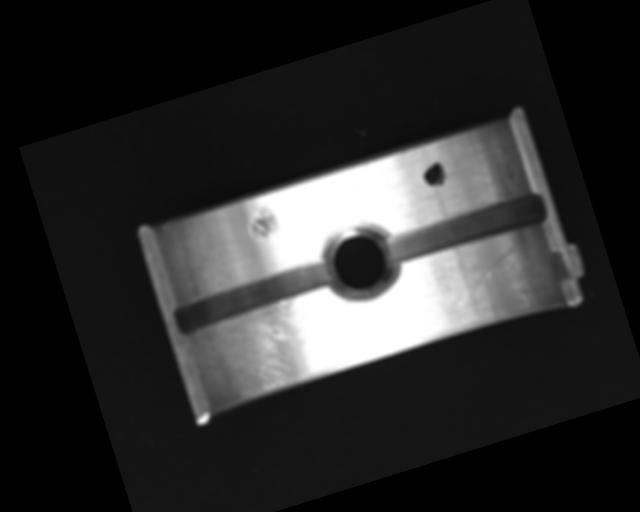blot: (419, 159, 449, 191)
bruise: (244, 201, 282, 242)
gap: (169, 256, 339, 338), (385, 188, 549, 266)
hole: (315, 213, 406, 309)
nick: (443, 243, 529, 308)
scratch: (192, 283, 360, 409)
